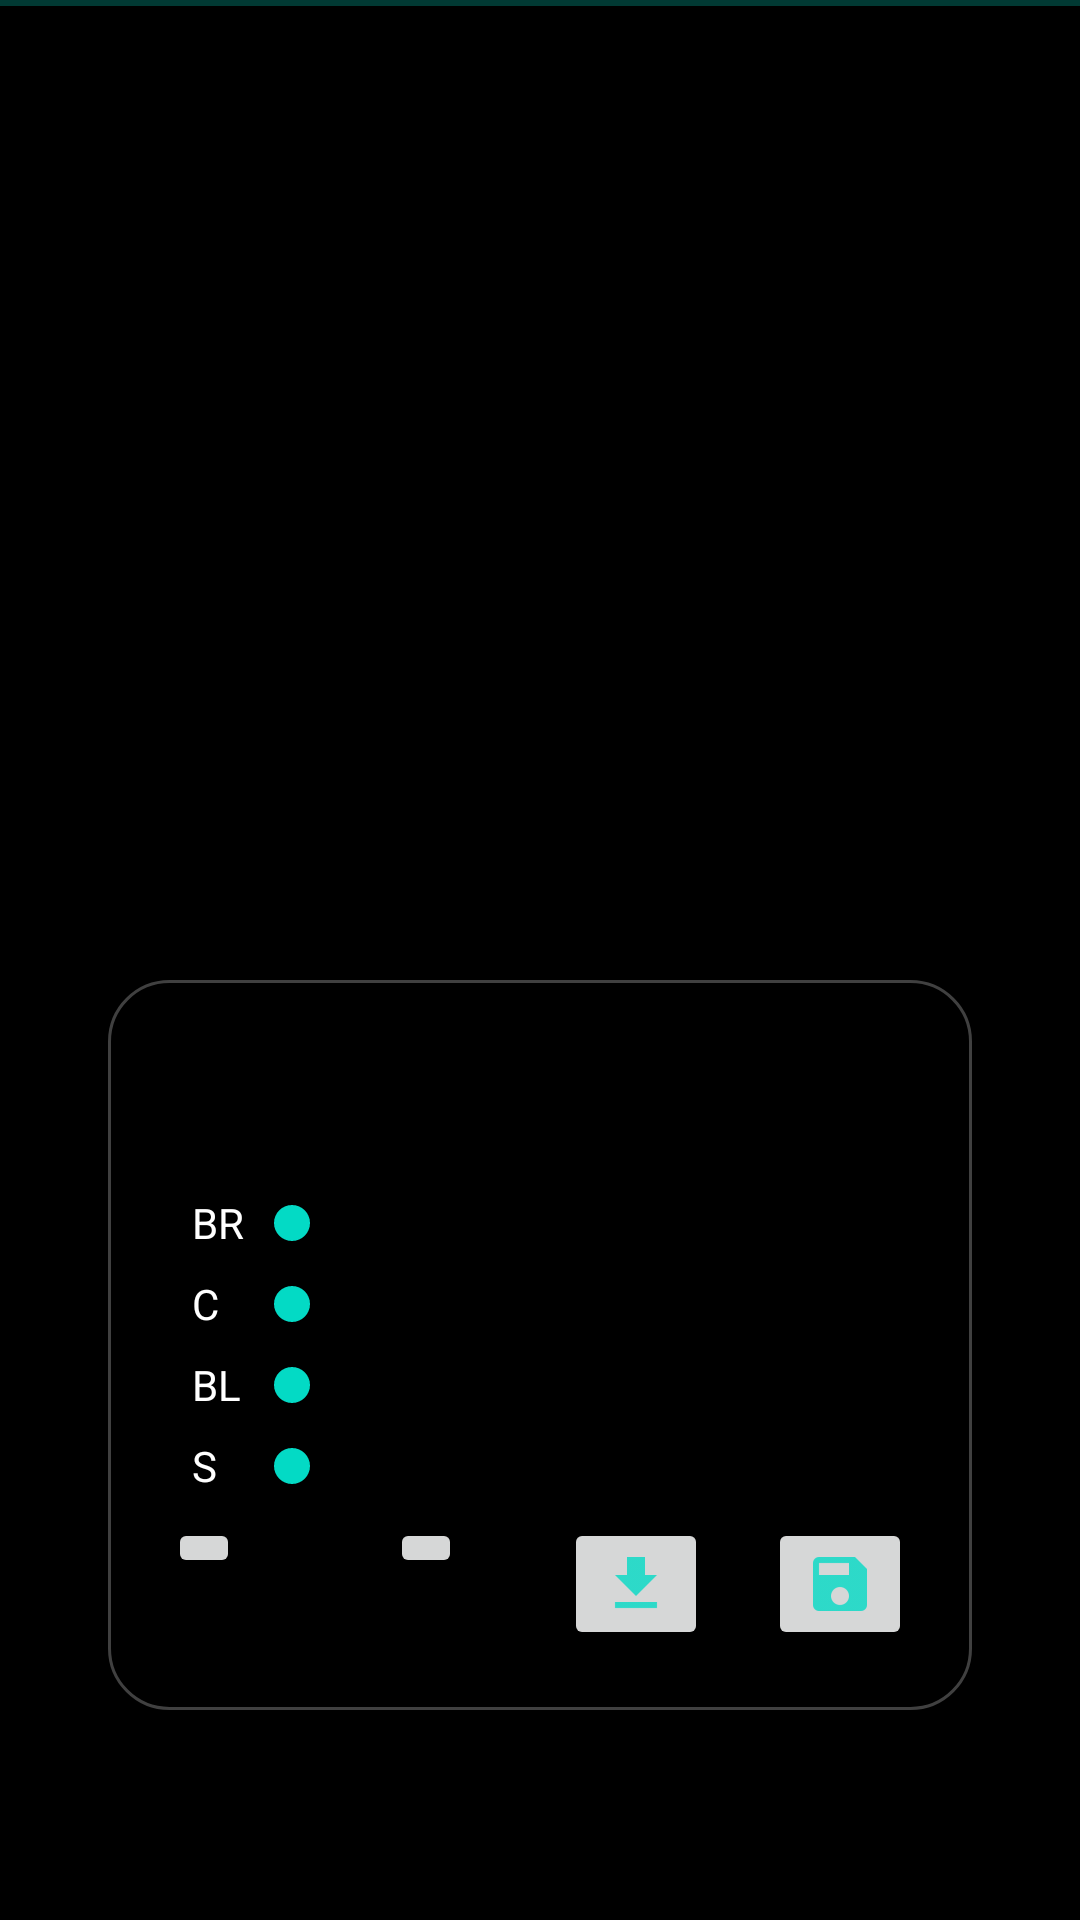

Icons on this 1080 × 1920 Android screen, each with its box as (x1,y1,x2,y2):
Download to storage: (576,1536,696,1632)
